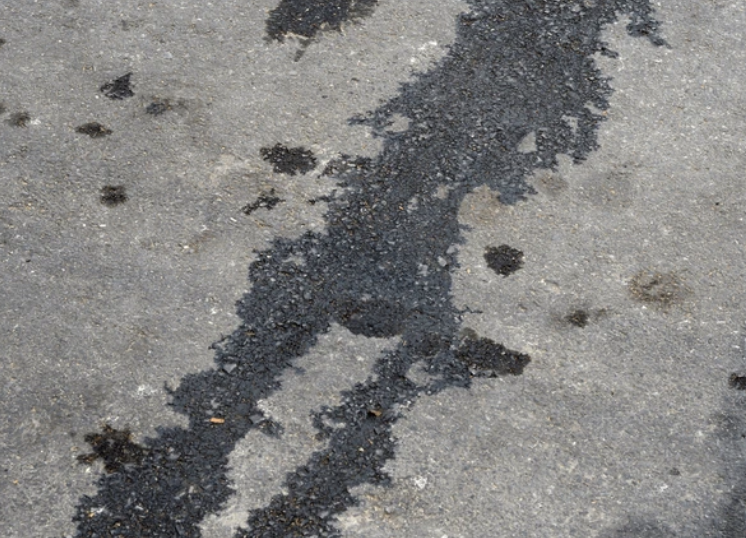oil: (34, 1, 334, 268), (134, 1, 191, 29)
